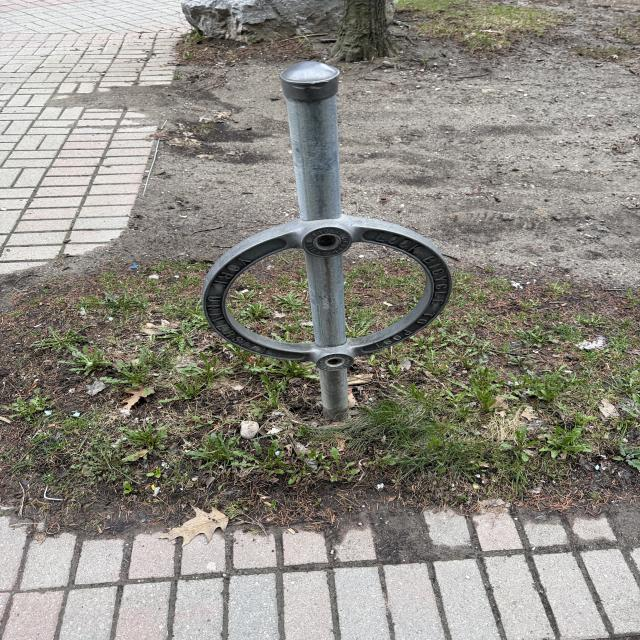Bicycle Rack: (193, 60, 450, 414)
